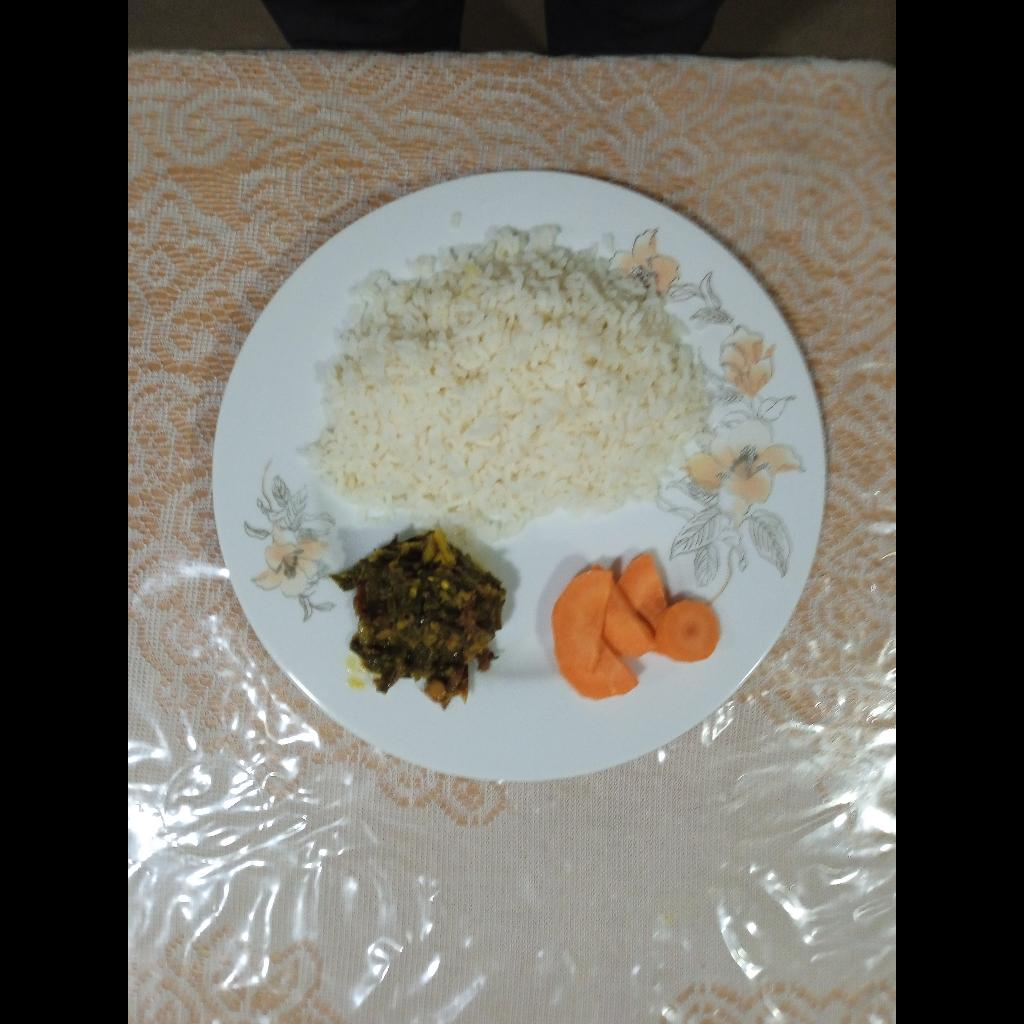carrot: (551, 554, 720, 700)
rice: (305, 224, 711, 548)
shak: (332, 526, 507, 708)
